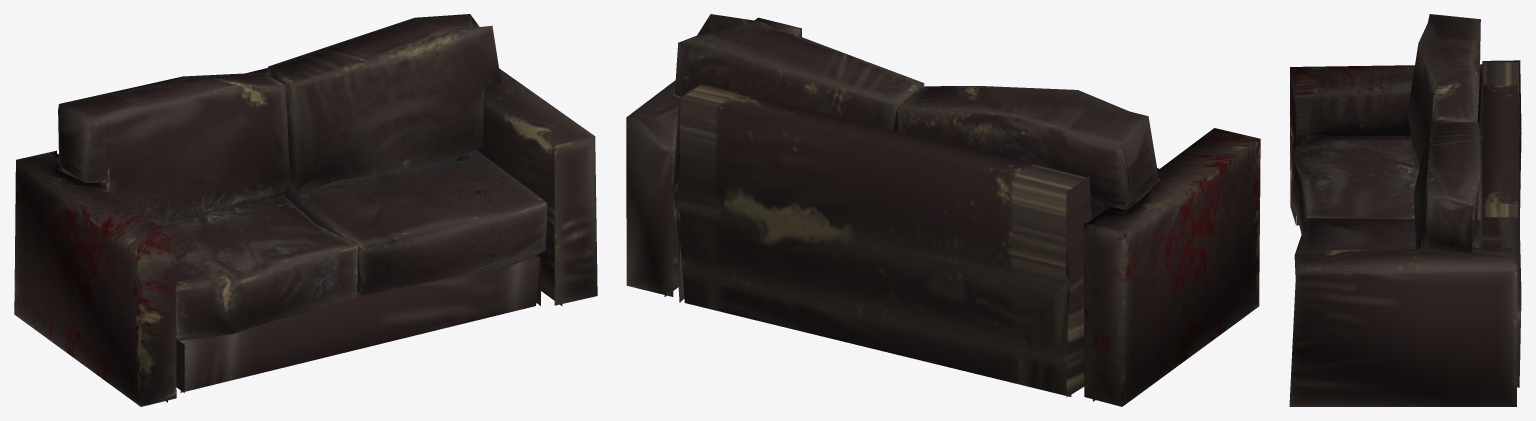
The model's file is sofa.obj.
3 views of the same model, side by side, from view 1: azimuth 30°, elevation 25°; view 2: azimuth 150°, elevation 25°; view 3: azimuth 270°, elevation 25° (orthographic). The views are drawn at different scales.
Visible parts, largest first — view 1: Box001_4_0_Box001_4_0_material_1, Box001_4_0_Box001_4_0_material_6, Box001_4_0_Box001_4_0_material_5, Box001_4_0_Box001_4_0_material_4, Box001_4_0_Box001_4_0_material_3, Box001_4_0_Box001_4_0_material, Box001_4_0_Box001_4_0_material_2; view 2: Box001_4_0_Box001_4_0_material, Box001_4_0_Box001_4_0_material_1, Box001_4_0_Box001_4_0_material_5, Box001_4_0_Box001_4_0_material_6, Box001_4_0_Box001_4_0_material_2; view 3: Box001_4_0_Box001_4_0_material_2, Box001_4_0_Box001_4_0_material_3, Box001_4_0_Box001_4_0_material_1, Box001_4_0_Box001_4_0_material, Box001_4_0_Box001_4_0_material_6, Box001_4_0_Box001_4_0_material_5, Box001_4_0_Box001_4_0_material_4.
Boxes of the visible parts, x1,y1,x2,y2 form: Box001_4_0_Box001_4_0_material_1: (14,150,176,406); Box001_4_0_Box001_4_0_material_6: (267,14,501,190); Box001_4_0_Box001_4_0_material_5: (58,72,290,226); Box001_4_0_Box001_4_0_material_4: (283,149,547,296); Box001_4_0_Box001_4_0_material_3: (160,194,357,341); Box001_4_0_Box001_4_0_material: (102,68,541,392); Box001_4_0_Box001_4_0_material_2: (477,68,597,306); Box001_4_0_Box001_4_0_material: (672,81,1091,396); Box001_4_0_Box001_4_0_material_1: (1084,128,1260,406); Box001_4_0_Box001_4_0_material_5: (899,86,1160,219); Box001_4_0_Box001_4_0_material_6: (673,14,924,132); Box001_4_0_Box001_4_0_material_2: (626,17,801,296); Box001_4_0_Box001_4_0_material_2: (1289,247,1517,406); Box001_4_0_Box001_4_0_material_3: (1291,135,1482,247); Box001_4_0_Box001_4_0_material_1: (1290,64,1481,225); Box001_4_0_Box001_4_0_material: (1479,60,1521,387); Box001_4_0_Box001_4_0_material_6: (1414,121,1480,253); Box001_4_0_Box001_4_0_material_5: (1407,14,1480,170); Box001_4_0_Box001_4_0_material_4: (1294,218,1481,275).
Bounding box in the file's own units: 1.98 × 0.9624 × 0.9608.
7 materials, 7 textured.
